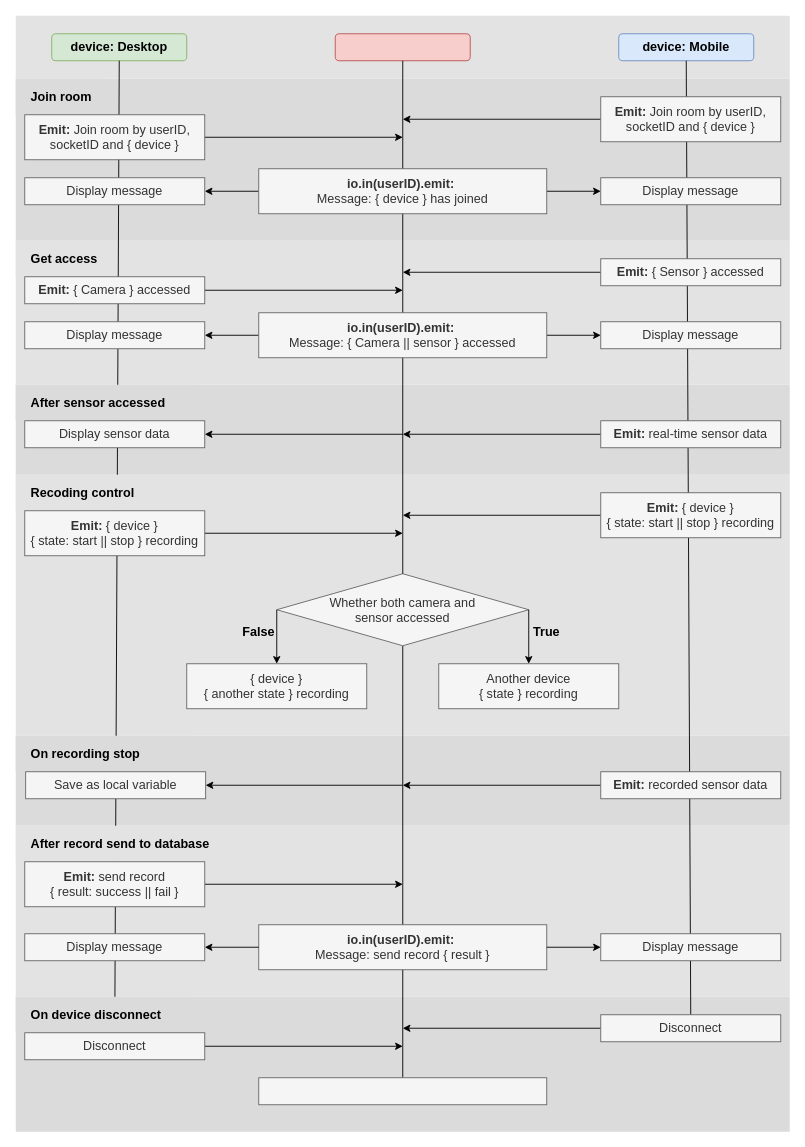
Image size: 805x1147. Some labels were removed from this diagram. Here are the shapes that lost their labels. From the top down, the box of each, then its label:
(334, 33, 470, 61): Server
(258, 1077, 547, 1105): Remove socketID from userID's room
